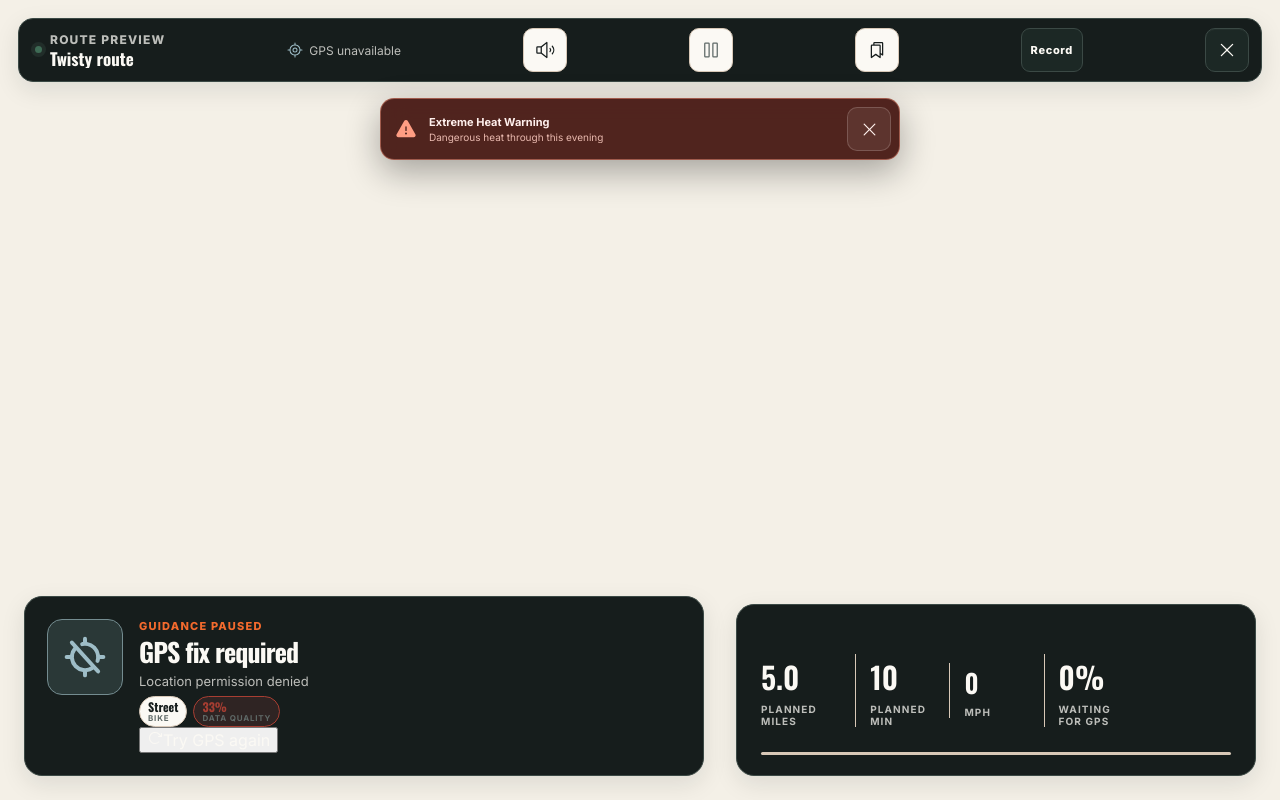
Test case: ride HUD GPS safety › dismisses an advisory for the rest of the browser ride session
The image size is (1280, 800).
Step 1. Click the button named "Dismiss Extreme Heat Warning" → [869, 129], box [847, 107, 891, 151]
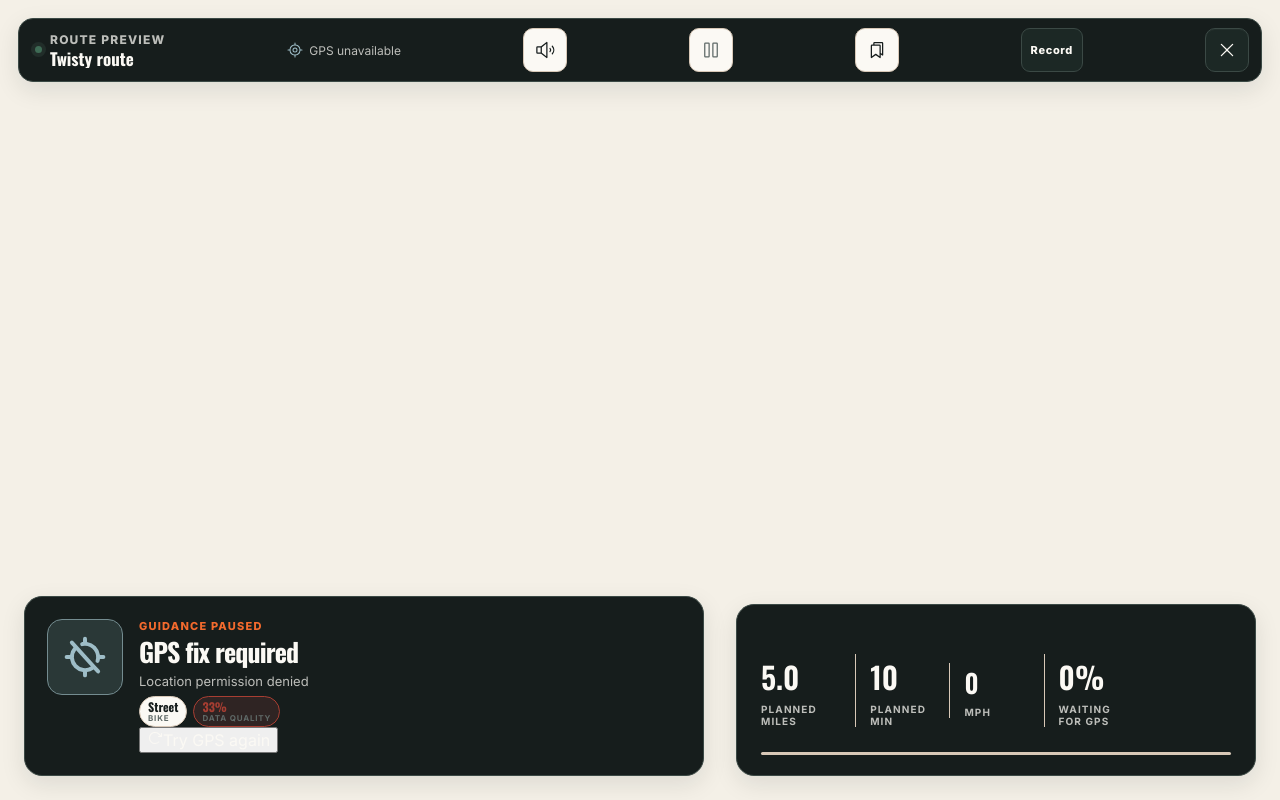
Check: the message "Extreme Heat Warning Dangerous heat through this evening" is gone
